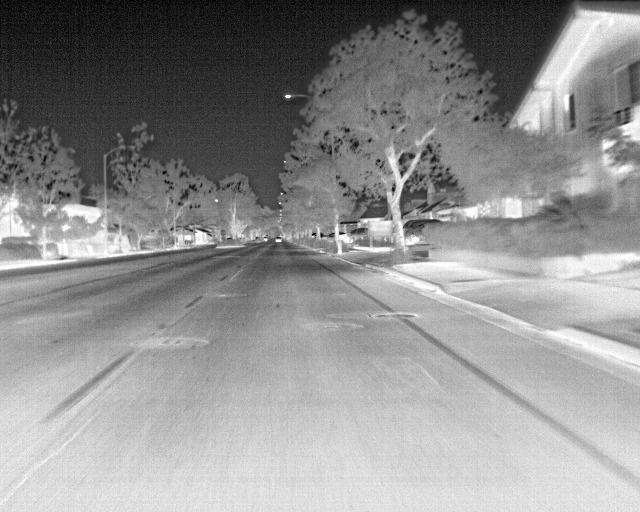bicycle: (402, 218, 442, 242), (342, 226, 368, 243), (273, 234, 282, 244)
